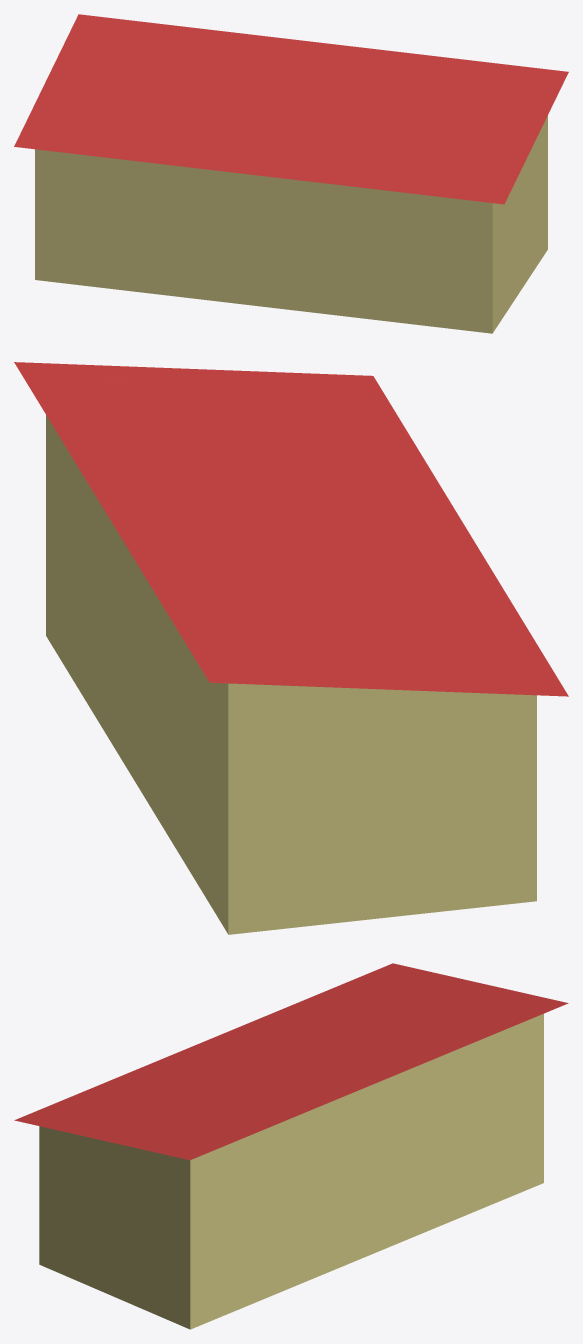
The picture shows the model from 3 angles, top to bottom: view 1: azimuth 30°, elevation 25°; view 2: azimuth 150°, elevation 25°; view 3: azimuth 270°, elevation 25°; orthographic projection. The views are drawn at different scales.
Bounding box in the file's own units: 23.25 × 23.41 × 8.38.
